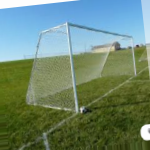goals: (24, 20, 138, 116)
